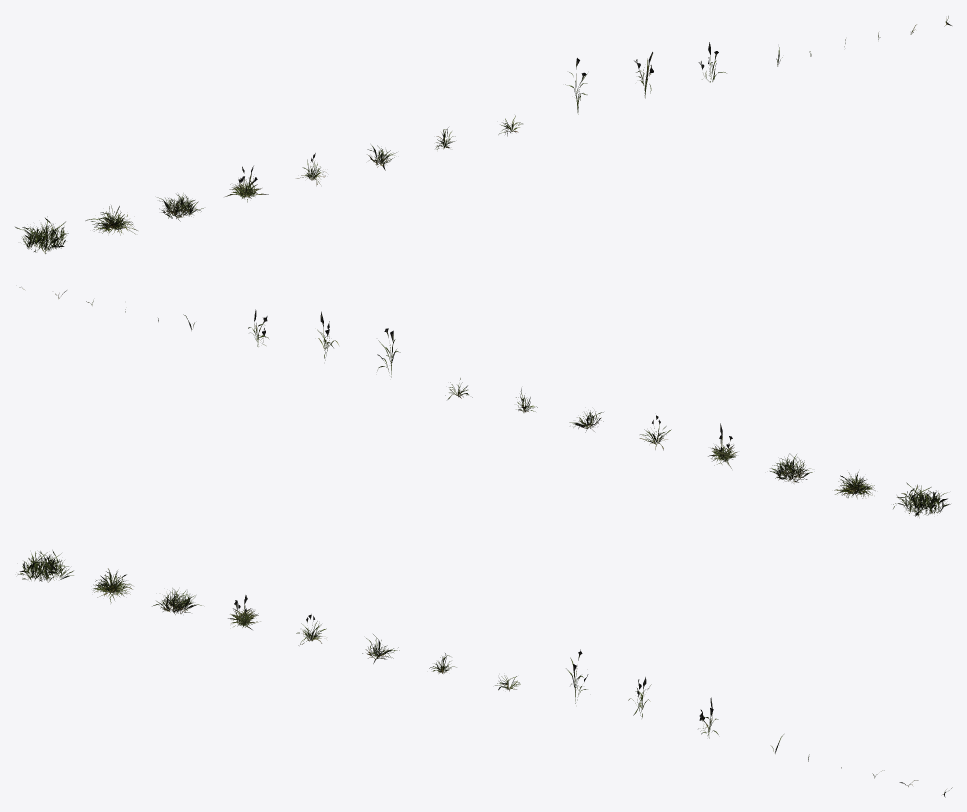
File: grass_medium_01.glb
3 views of the same model, one above another, from view 1: azimuth 30°, elevation 25°; view 2: azimuth 150°, elevation 25°; view 3: azimuth 330°, elevation 25° (orthographic).
Parts seen in each view (by area): view 1: grass_medium_01_small_a_LOD0; view 2: grass_medium_01_small_a_LOD0; view 3: grass_medium_01_small_a_LOD0.
Part boxes in pixels (bbox=[...]): grass_medium_01_small_a_LOD0: bbox=[15, 16, 951, 253]; grass_medium_01_small_a_LOD0: bbox=[19, 287, 950, 517]; grass_medium_01_small_a_LOD0: bbox=[18, 550, 952, 797].
Size of the model in its own units: 5.6 by 0.338 by 0.3264.
1 material, 1 textured.
